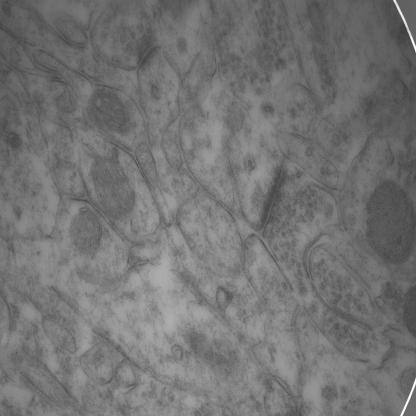mitochondria: (366, 181, 416, 266), (88, 157, 136, 216), (89, 90, 132, 136), (69, 208, 103, 256)
